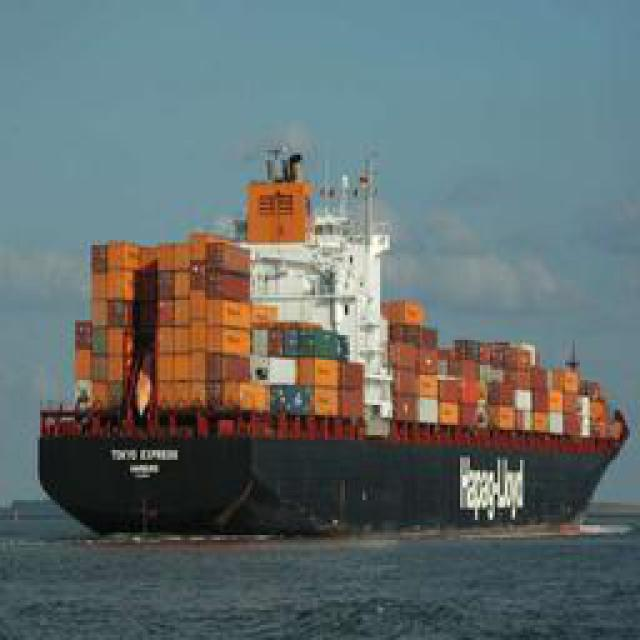Ship: (26, 118, 629, 533)
